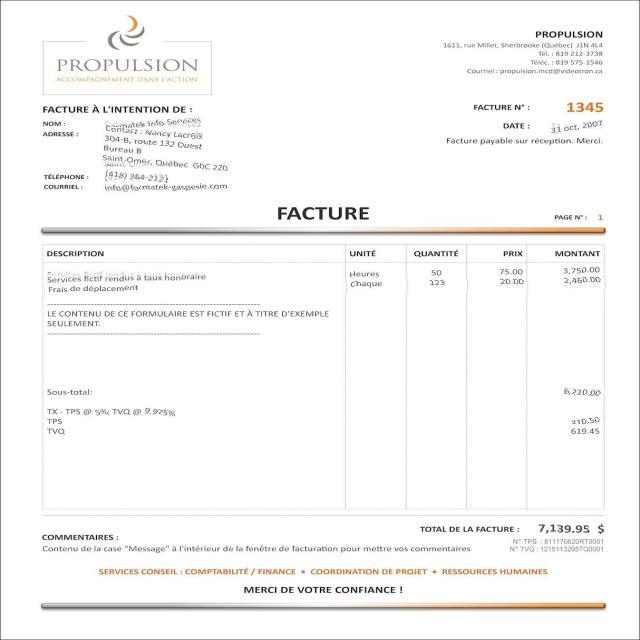customer_name: (101, 117, 209, 133)
invoice_date: (545, 119, 607, 135), (550, 213, 587, 223)
invoice_number: (564, 99, 606, 114)
invoice_subtotal: (560, 385, 605, 398)
invoice_total: (534, 519, 610, 537)
item_description: (40, 267, 335, 332)
item_total_price: (559, 263, 602, 287)
item_unit_price: (493, 266, 525, 293), (424, 263, 448, 288)
supplier_address: (100, 135, 240, 171), (437, 40, 609, 51)
supplier_name: (50, 54, 205, 73), (533, 28, 607, 39)
